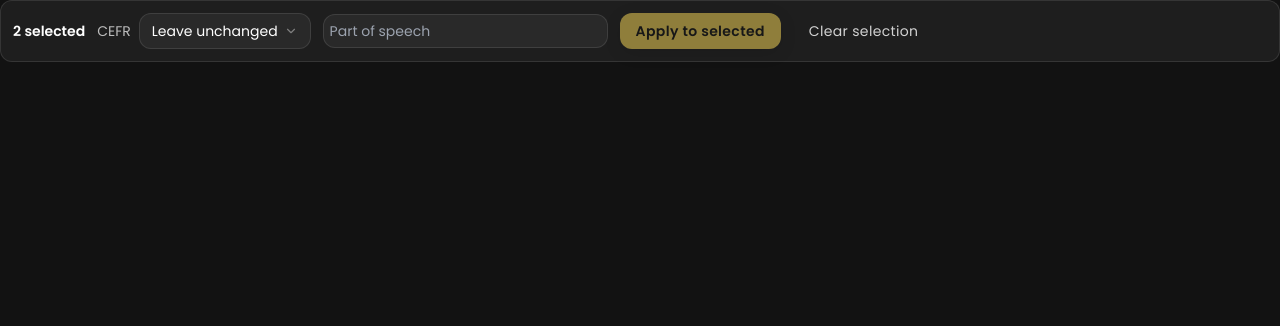
Test: BulkEditBar › reports how many cards were changed
Press Enter in the dropdown named "Bulk CEFR level", box [139,13,311,49]
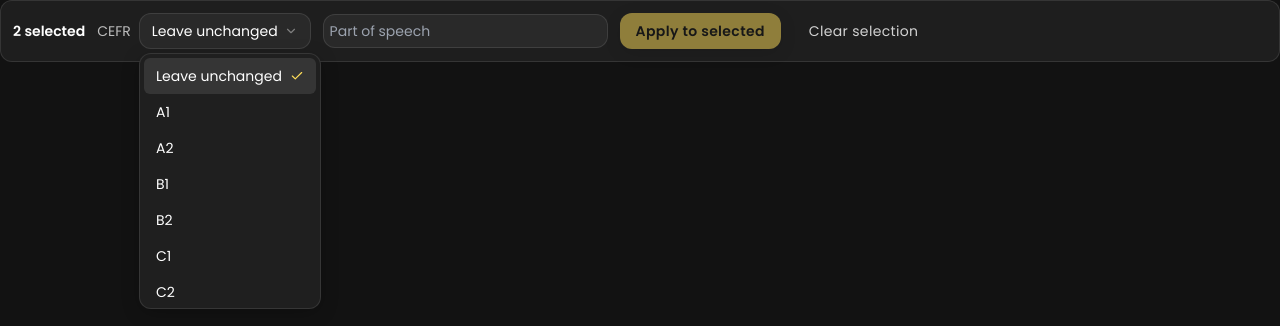
Click the option "B1" at (163, 184), box [156,174,169,194]
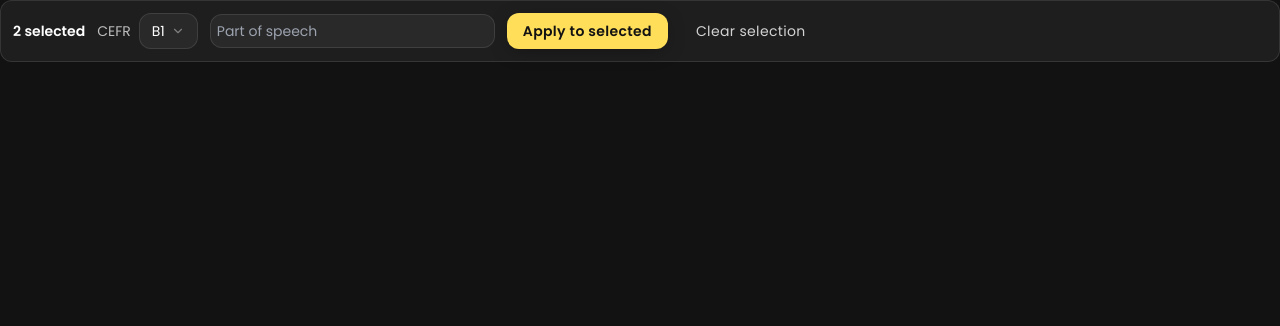
Click the button "Apply to selected" at (587, 31), box [507,13,668,49]
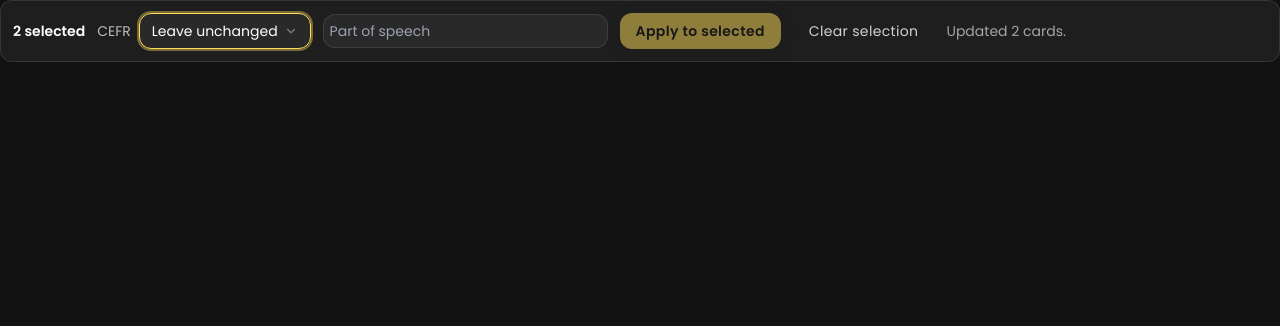
Expected: the message reads "Updated 2 cards.", [946,21,1066,41]
